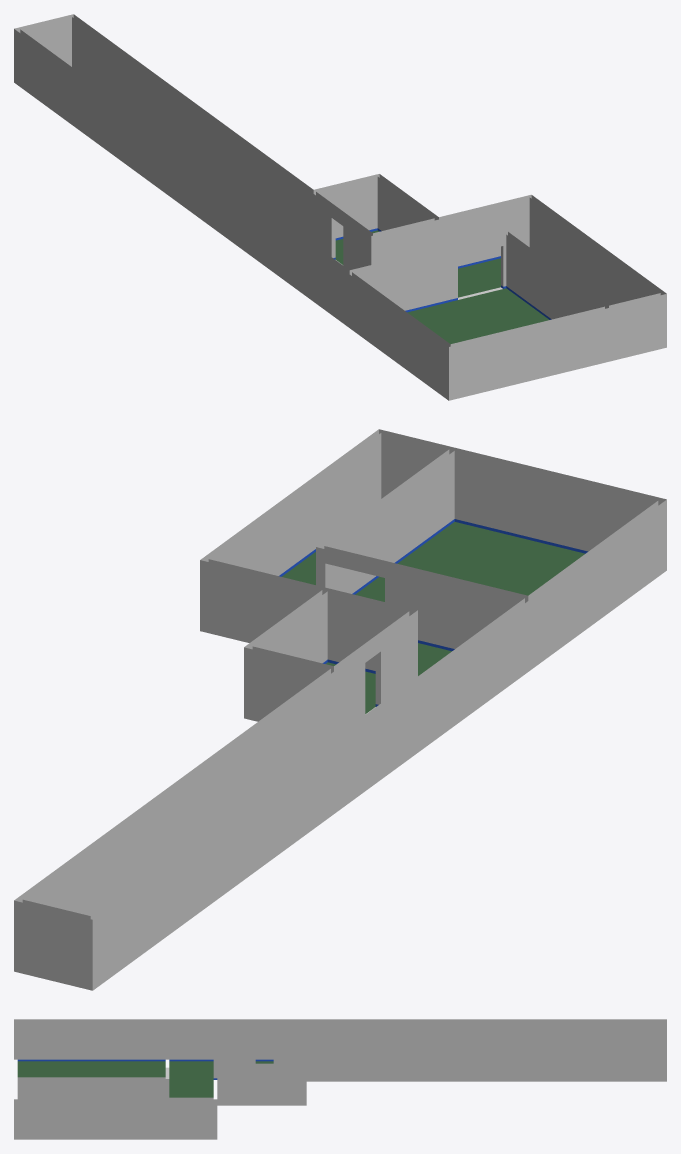
File: Pasillo.fbx
The picture shows the model from 3 angles, top to bottom: view 1: azimuth 30°, elevation 25°; view 2: azimuth 150°, elevation 25°; view 3: azimuth 270°, elevation 25°; orthographic projection. The views are drawn at different scales.
Parts seen in each view (by area): view 1: Cube; view 2: Cube; view 3: Cube.
Boxes of the visible parts, x1,y1,x2,y2 form: Cube: (14, 14, 666, 400); Cube: (14, 429, 666, 990); Cube: (14, 1019, 666, 1139).
Size of the model in its own units: 1060 by 250 by 3660.
